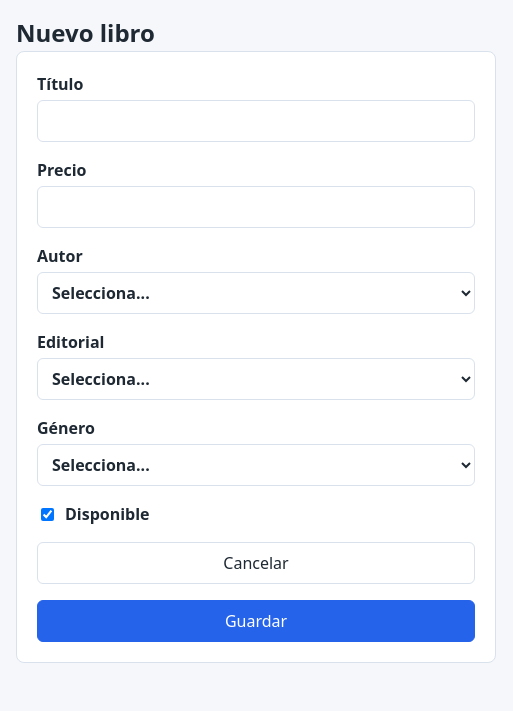
LibroForm › muestra un error si la API falla al guardar
Expected: the heading "Nuevo libro" is shown, 16,16 -> 155,49
Type "  Cien años " into the field labelled "Título".
click(256, 121); type("  Cien años ")  # box 37,100 -> 475,142
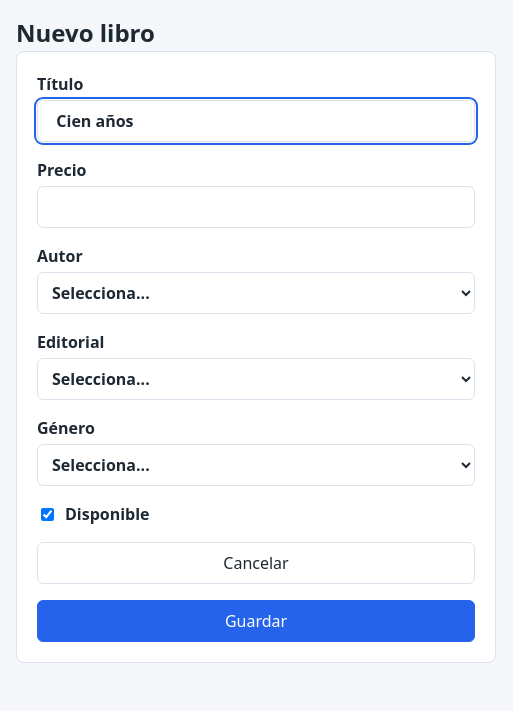
Type "15000" into the number field labelled "Precio".
click(256, 207); type("15000")  # box 37,186 -> 475,228
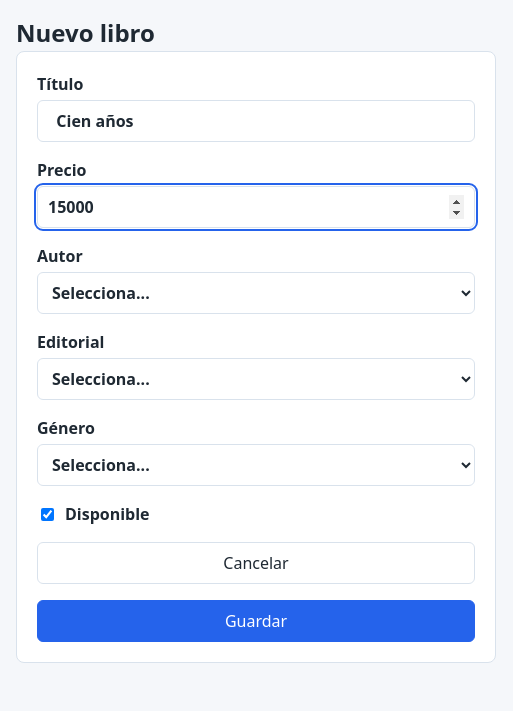
Select "Gabriel García" in the dropdown labelled "Autor" at (256, 293), box 37,272 -> 475,314
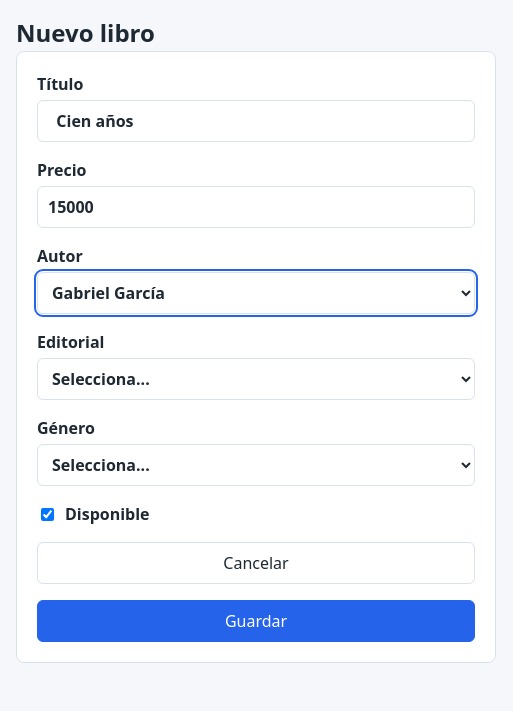
Select "Alfaguara" in the dropdown labelled "Editorial" at (256, 379), box 37,358 -> 475,400
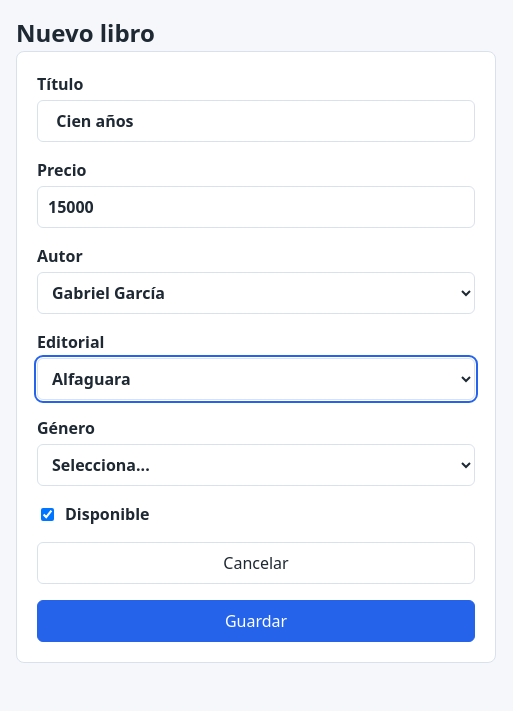
Select "Novela" in the dropdown labelled "Género" at (256, 465), box 37,444 -> 475,486
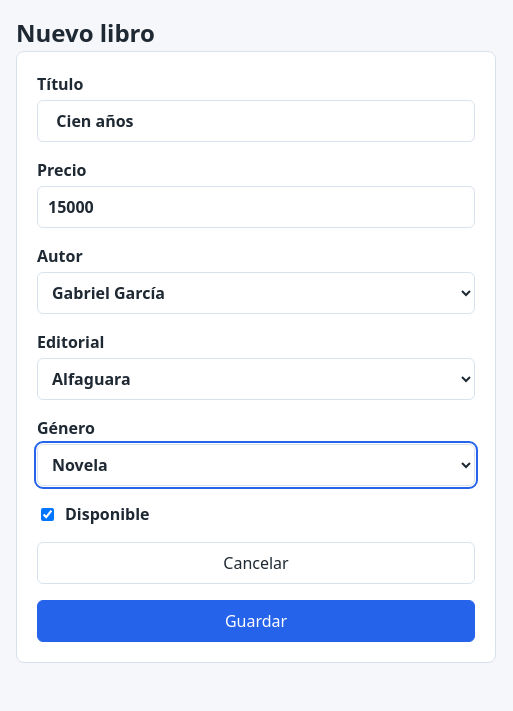
Click the button "Guardar".
click(256, 621)  # box 37,600 -> 475,642
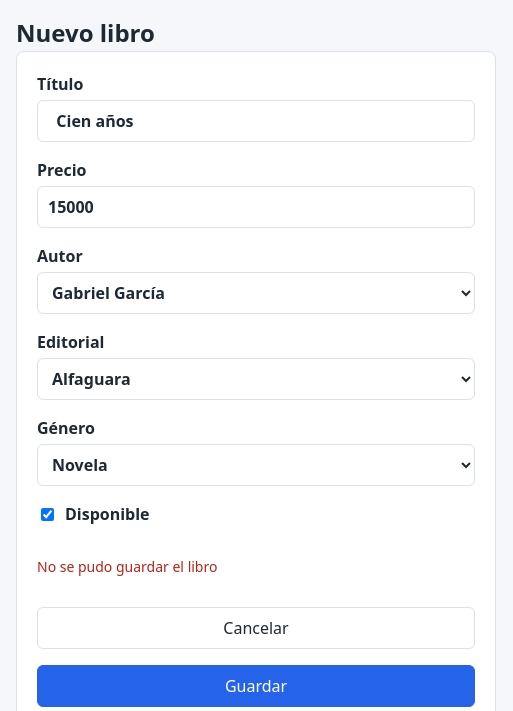
Now the text "No se pudo guardar el libro" is shown, box 37,557 -> 217,576
